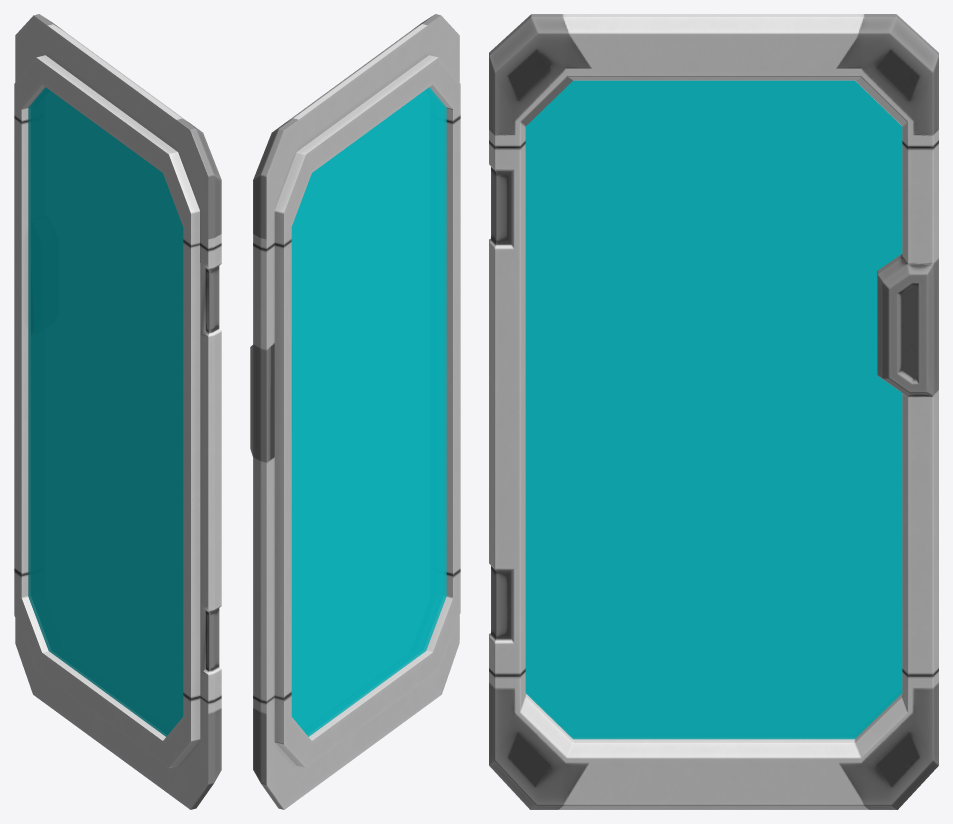
Rendered from SM_LabFridge01_2_DoorL.FBX.
3 renders of one model, left to right at view 1: azimuth 30°, elevation 25°; view 2: azimuth 150°, elevation 25°; view 3: azimuth 270°, elevation 25°, orthographic. The views are drawn at different scales.
Visible parts, largest first — view 1: SM_LabFridge01_2_DoorL; view 2: SM_LabFridge01_2_DoorL; view 3: SM_LabFridge01_2_DoorL.
Boxes of the visible parts, x1=… form: SM_LabFridge01_2_DoorL: x1=14, y1=14, x2=221, y2=809; SM_LabFridge01_2_DoorL: x1=250, y1=14, x2=460, y2=809; SM_LabFridge01_2_DoorL: x1=489, y1=14, x2=938, y2=809.
Size of what is drawn, in the model's own units: 7.5 by 81.34 by 158.
